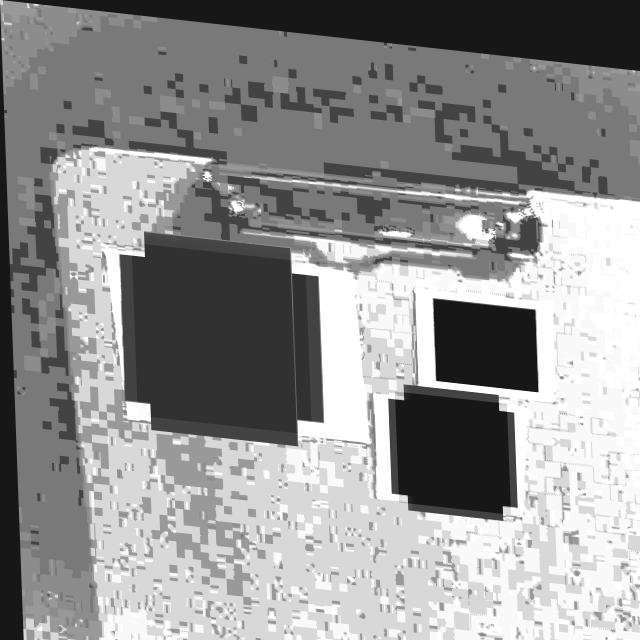qr_code: (130, 240, 309, 428), (392, 382, 507, 503), (430, 288, 537, 380)
